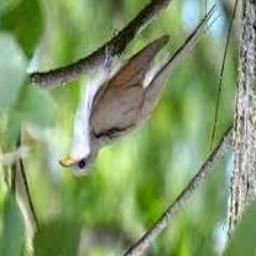Cuckoo: (58, 4, 220, 176)
